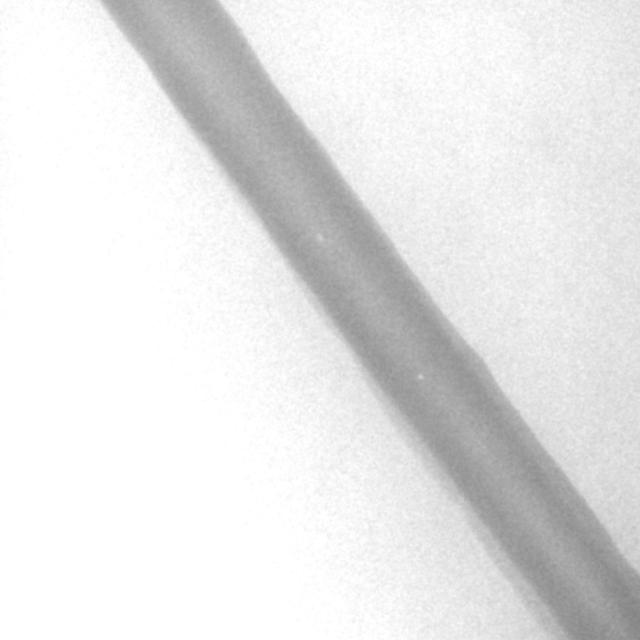air hole: (313, 231, 325, 245), (415, 372, 424, 384)
